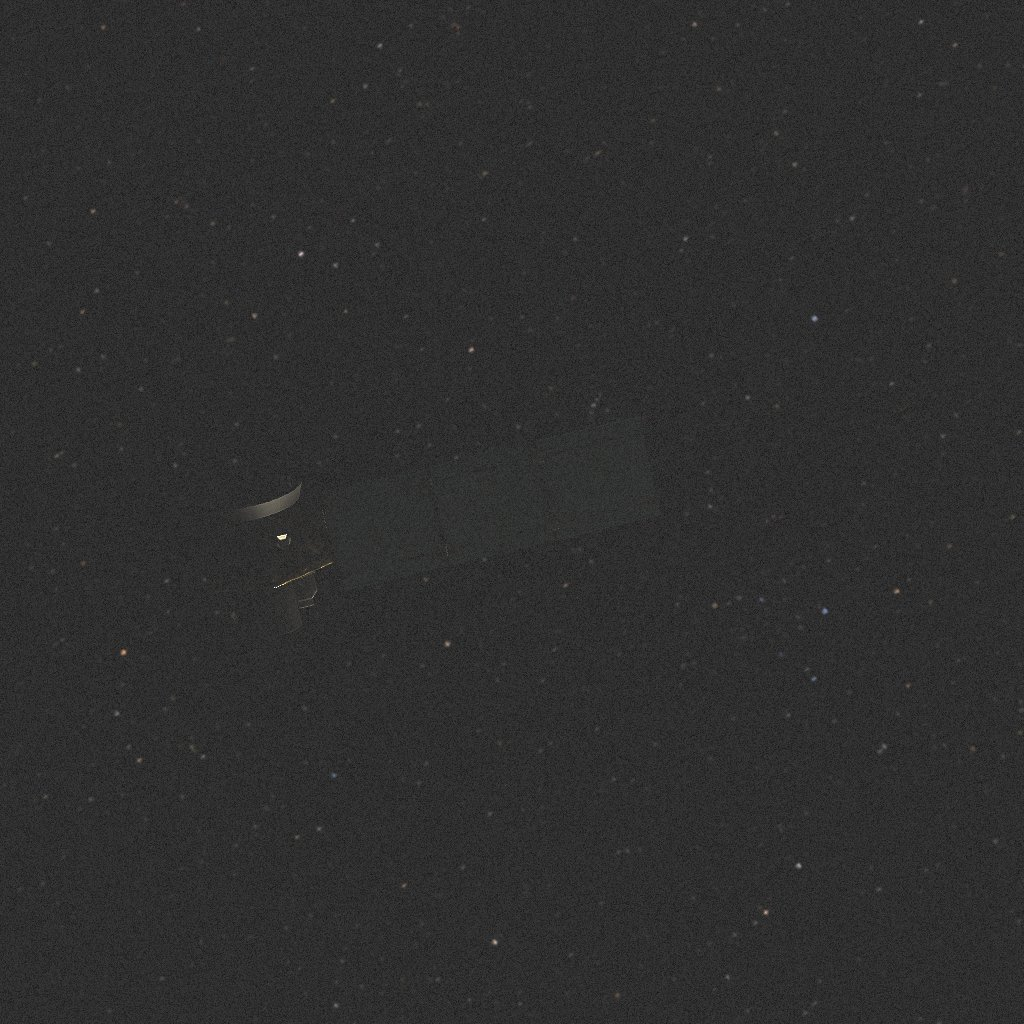earth_observation_sat_1: (190, 416, 660, 667)
